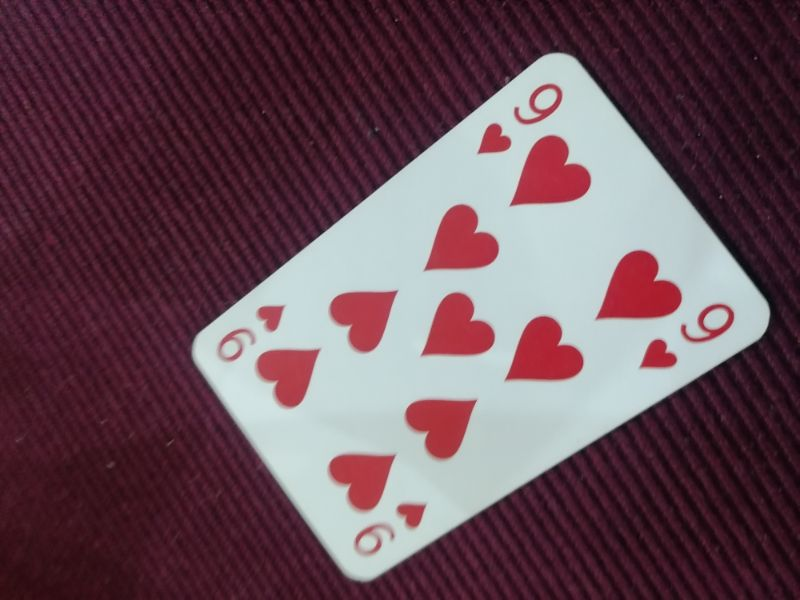9h: (473, 81, 570, 158), (636, 300, 735, 375), (213, 301, 288, 366), (349, 499, 430, 559)
